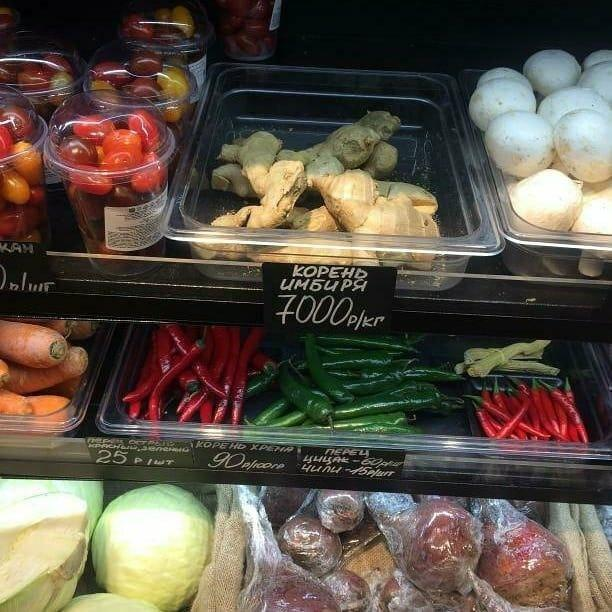cabbage: (9, 477, 219, 612)
carrot: (3, 316, 107, 454)
ginger: (198, 54, 469, 303)
tomato: (0, 41, 172, 283)
